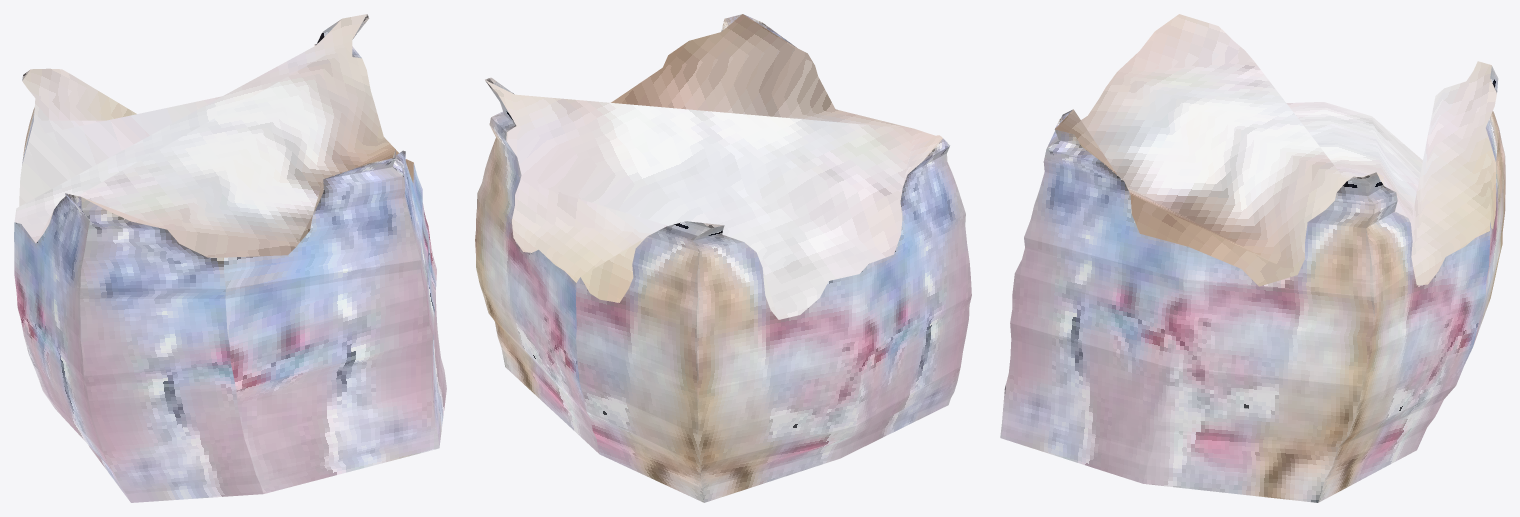
The picture shows the model from 3 angles, left to right: view 1: azimuth 30°, elevation 25°; view 2: azimuth 150°, elevation 25°; view 3: azimuth 270°, elevation 25°; orthographic projection. The views are drawn at different scales.
Parts seen in each view (by area): view 1: SPLICE_2; view 2: SPLICE_2; view 3: SPLICE_2.
Part boxes in pixels (x1,y1,x2,y2): SPLICE_2: [14, 14, 446, 502]; SPLICE_2: [475, 14, 971, 502]; SPLICE_2: [1000, 14, 1505, 502].
Size of the model in its own units: 1.61 by 1.31 by 1.66.
1 material, 1 textured.
